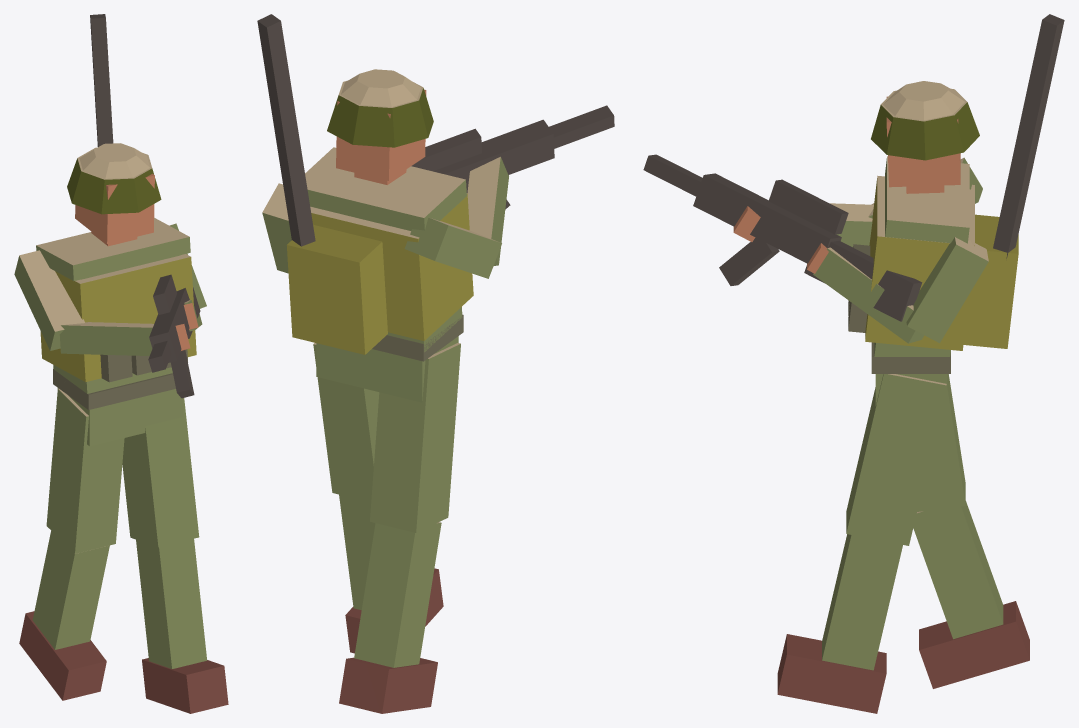
The model's file is SM_SoldadoArmado_v5_G36E_Apuntando_LOD1.fbx.
3 renders of one model, left to right at view 1: azimuth 30°, elevation 25°; view 2: azimuth 150°, elevation 25°; view 3: azimuth 270°, elevation 25°, orthographic. The views are drawn at different scales.
Visible parts, largest first — view 1: SM_bloques.soldado_armado_v5_LOD1; view 2: SM_bloques.soldado_armado_v5_LOD1; view 3: SM_bloques.soldado_armado_v5_LOD1.
Part boxes in pixels (bbox=[...]): SM_bloques.soldado_armado_v5_LOD1: bbox=[14, 14, 228, 713]; SM_bloques.soldado_armado_v5_LOD1: bbox=[257, 14, 614, 713]; SM_bloques.soldado_armado_v5_LOD1: bbox=[643, 14, 1064, 713].
Size of the model in its own units: 0.5846 by 2.04 by 1.12.
